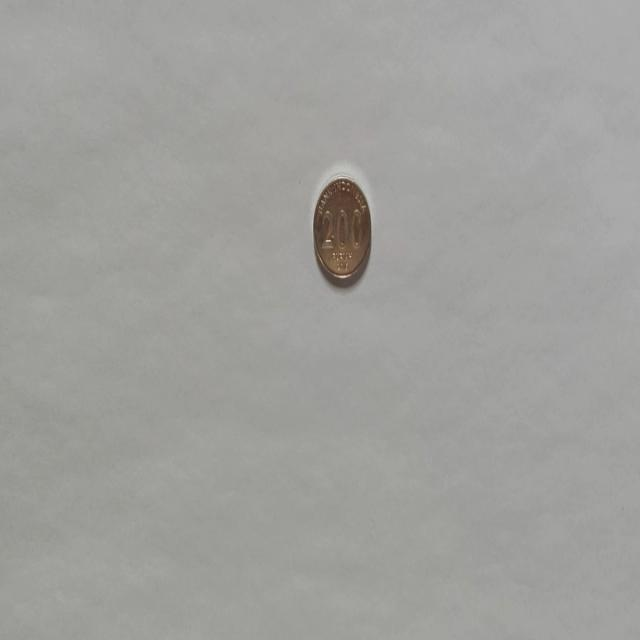dua ratus rupiah: (312, 172, 372, 284)
